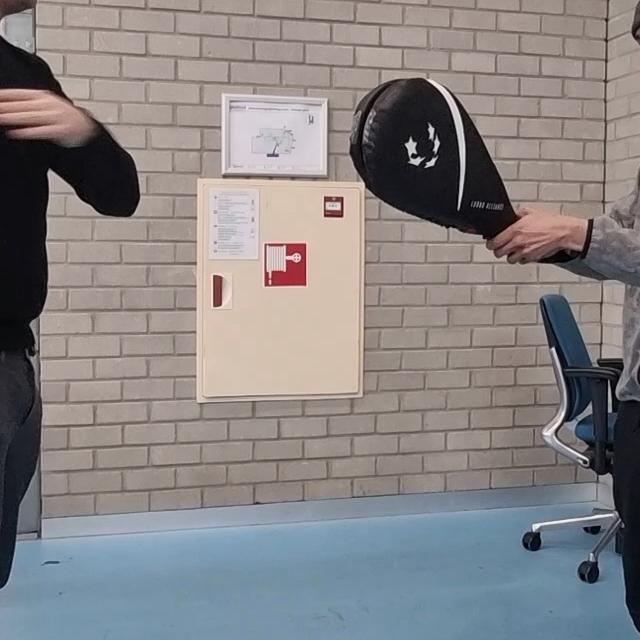paddle: (349, 78, 519, 237)
